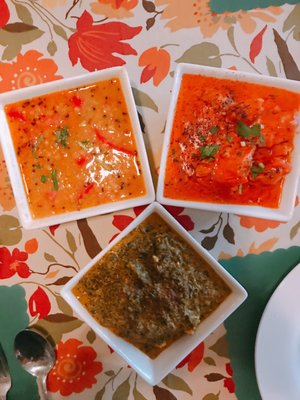sushi: (0, 66, 154, 228)
